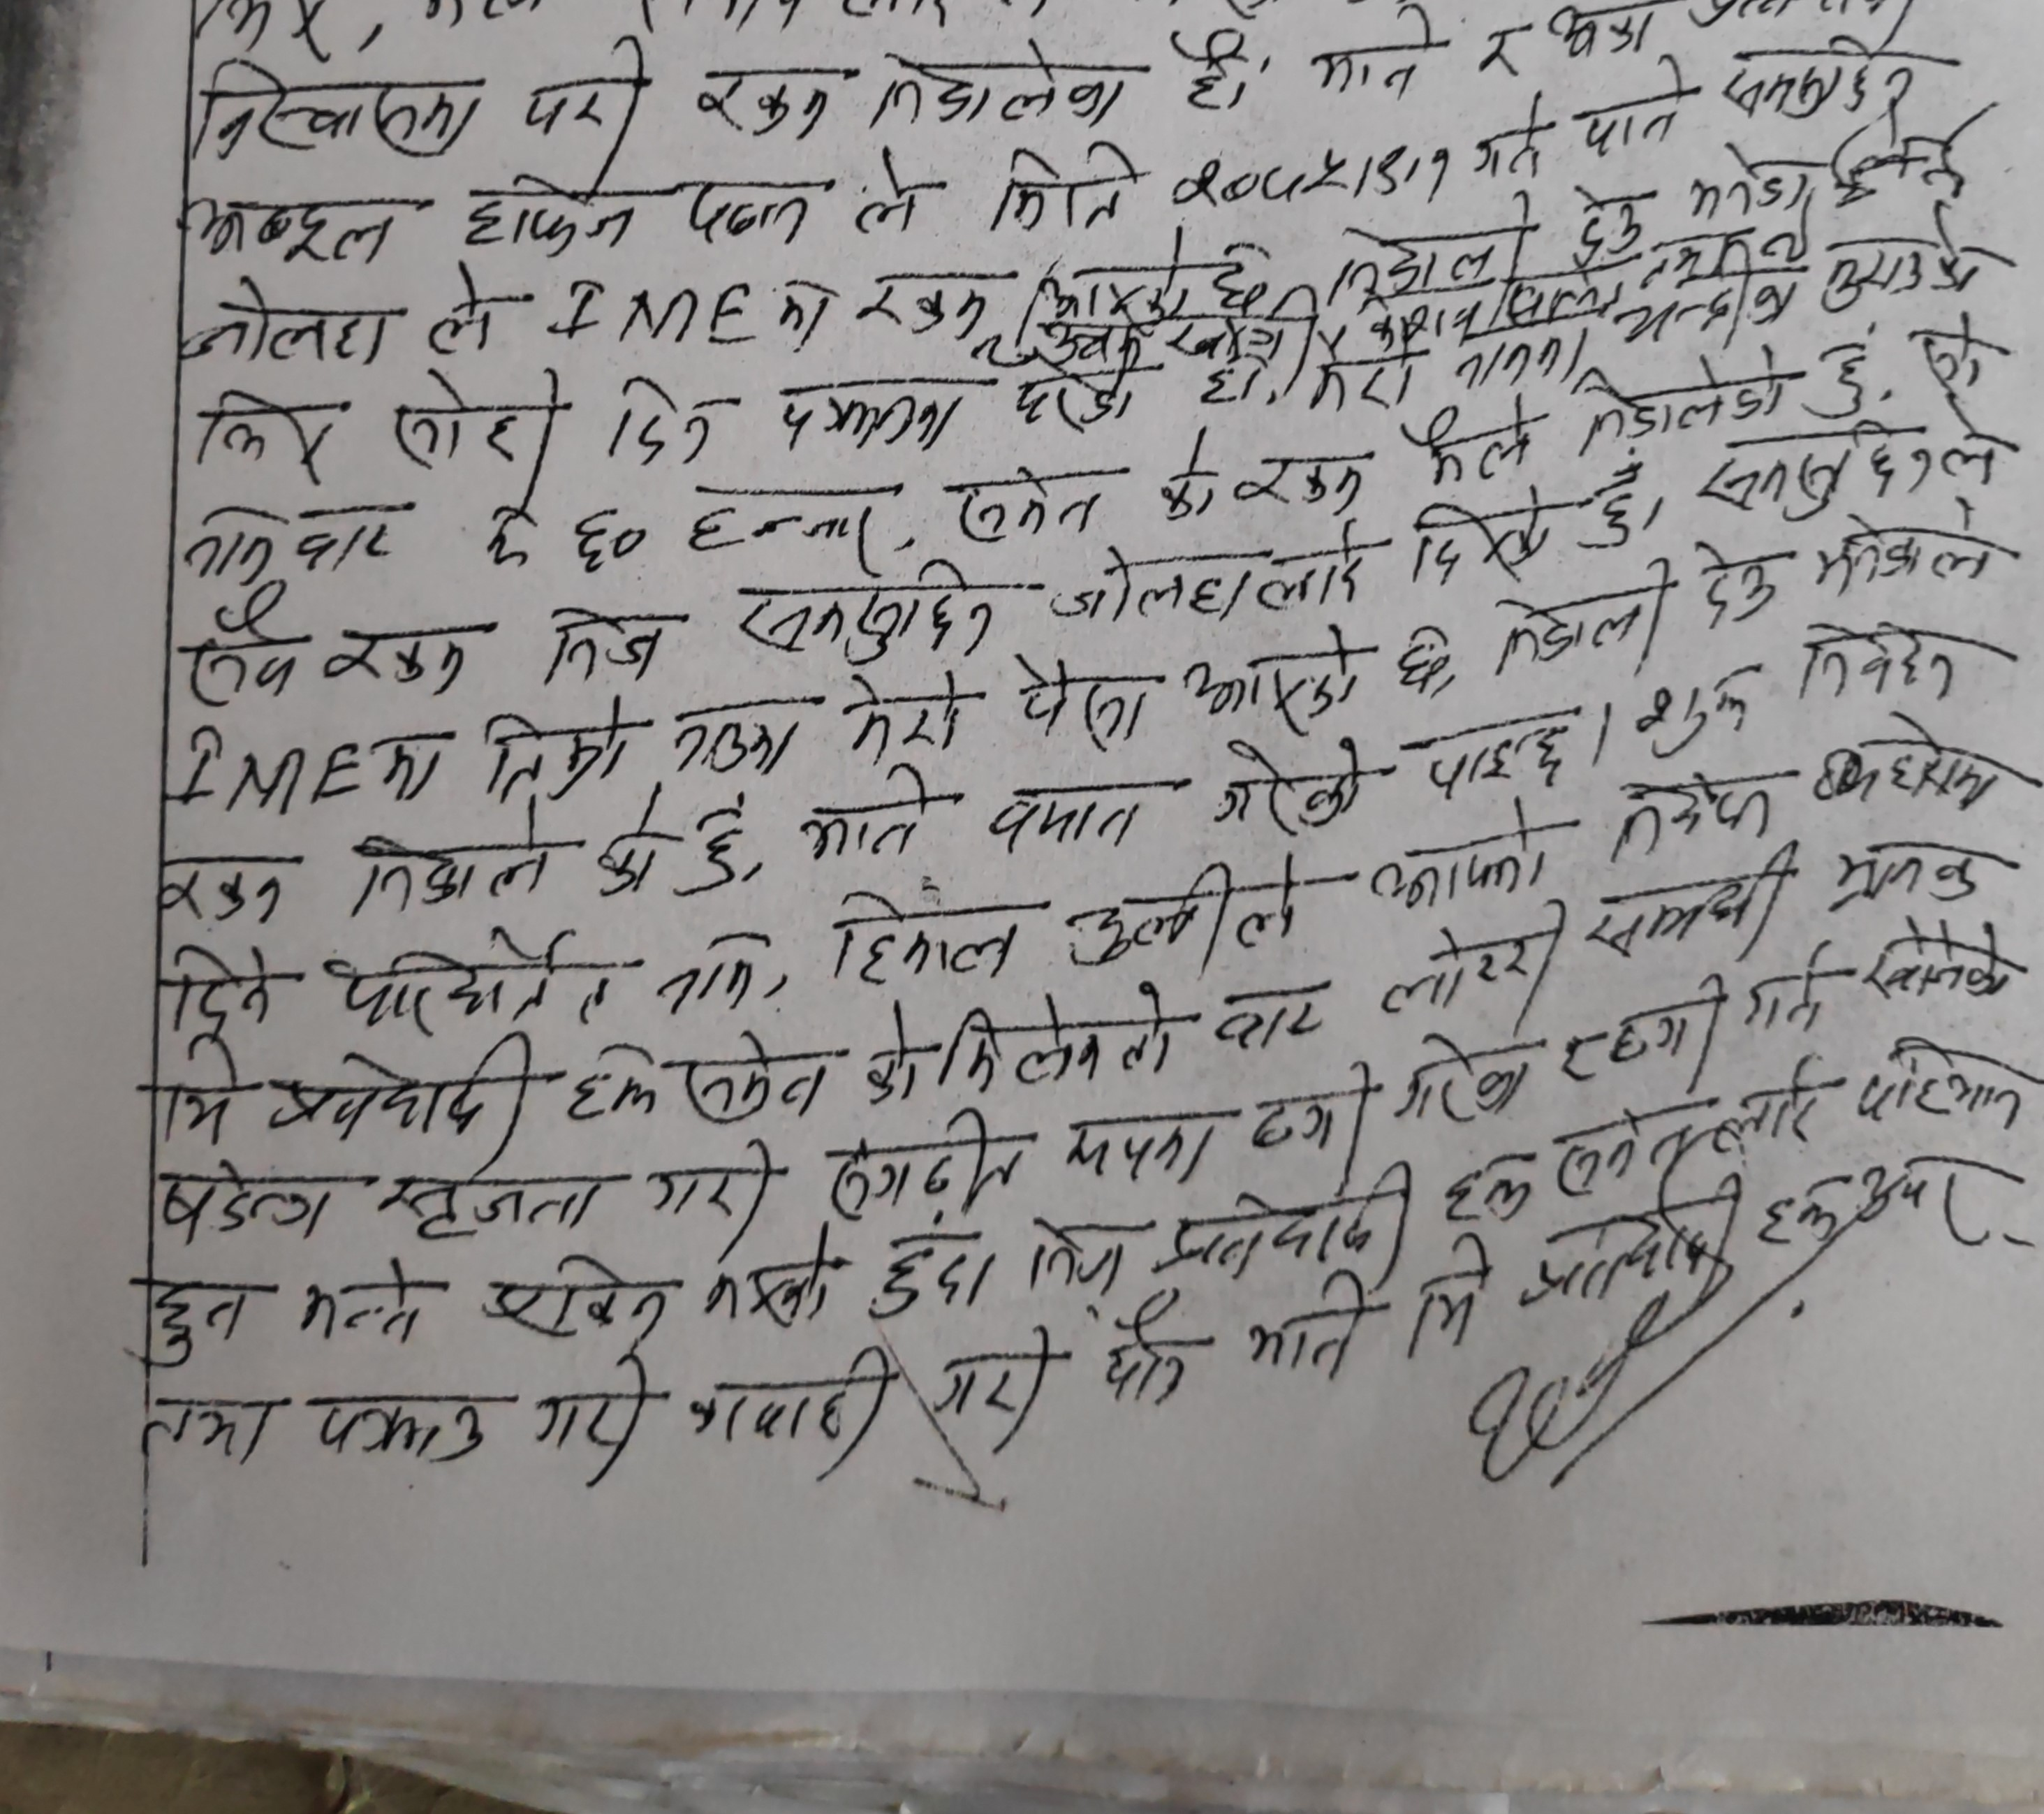text: (187, 53, 483, 170), (733, 557, 1006, 665), (266, 1030, 548, 1135), (322, 926, 623, 1024), (1549, 1087, 1820, 1196), (1155, 1168, 1426, 1275), (1757, 1145, 1995, 1264), (1517, 1180, 1753, 1299), (684, 1336, 894, 1469), (1059, 856, 1307, 967), (1171, 128, 1456, 217), (938, 988, 1176, 1094), (572, 1030, 829, 1126), (873, 42, 1144, 133), (819, 1105, 1036, 1210), (1713, 26, 1928, 131), (822, 877, 1031, 984), (378, 355, 577, 466), (346, 805, 556, 909), (1486, 571, 1673, 686), (187, 275, 401, 375), (1179, 625, 1365, 737), (1808, 716, 2016, 816), (376, 1157, 604, 1248), (1578, 863, 1788, 961), (1788, 606, 1974, 713), (1848, 1037, 2033, 1143), (1813, 217, 2004, 319), (1367, 805, 1547, 912), (677, 476, 903, 560), (1375, 919, 1556, 1024), (481, 1248, 670, 1348), (1206, 732, 1370, 846), (1316, 214, 1538, 298), (180, 506, 427, 581), (187, 182, 402, 268), (1050, 1093, 1230, 1194), (1400, 702, 1577, 805), (159, 1149, 336, 1250), (290, 1389, 499, 1474), (478, 692, 644, 798), (931, 1324, 1071, 1450), (1052, 541, 1256, 627), (1598, 762, 1783, 856), (1804, 515, 2005, 601), (523, 33, 654, 163), (1858, 909, 2019, 1014), (1239, 1275, 1382, 1392), (1004, 646, 1162, 753), (763, 373, 966, 455), (1577, 366, 1802, 439), (1694, 425, 1864, 522), (1388, 1024, 1538, 1129), (1816, 826, 2000, 912), (990, 135, 1146, 235), (528, 1350, 647, 1480), (689, 56, 840, 158), (458, 177, 649, 256), (1407, 490, 1563, 587), (940, 455, 1106, 545), (1606, 967, 1729, 1087), (198, 389, 357, 482), (315, 620, 483, 707), (296, 1245, 437, 1348), (185, 592, 308, 711), (131, 1380, 282, 1476), (1248, 1052, 1381, 1161), (642, 1133, 784, 1234), (703, 1229, 843, 1331), (658, 690, 808, 783), (1001, 341, 1137, 443), (843, 662, 975, 767), (875, 1219, 1006, 1324), (532, 597, 688, 685), (1626, 263, 1802, 340), (794, 770, 931, 867), (602, 364, 724, 471), (1403, 1231, 1496, 1371), (1311, 7, 1445, 103), (1573, 56, 1697, 159), (982, 781, 1160, 853), (1407, 399, 1538, 496), (677, 166, 815, 256), (1255, 517, 1375, 616), (1680, 138, 1816, 224), (161, 842, 296, 928), (1017, 1203, 1136, 1299), (166, 939, 280, 1037), (1206, 968, 1335, 1054), (140, 1271, 257, 1366), (849, 268, 1006, 338), (1732, 944, 1843, 1044), (1687, 531, 1781, 646), (1095, 1310, 1200, 1410), (1638, 678, 1769, 756), (1225, 443, 1375, 511), (159, 1033, 248, 1145), (1445, 326, 1598, 389), (849, 133, 929, 252), (1300, 345, 1421, 420), (422, 264, 513, 364), (1435, 1149, 1547, 1229), (654, 928, 759, 1014), (1169, 26, 1262, 123), (1144, 420, 1227, 529), (1556, 170, 1648, 264), (854, 995, 927, 1114), (1466, 98, 1557, 182), (1906, 313, 1998, 396), (588, 798, 658, 902), (1858, 418, 1941, 506), (369, 721, 446, 805), (1386, 616, 1456, 707), (684, 798, 744, 898), (1584, 459, 1648, 550), (469, 496, 542, 574), (569, 504, 644, 576), (1816, 338, 1879, 420), (1941, 403, 2000, 487), (1472, 18, 1536, 84), (1192, 354, 1272, 401), (1556, 1023, 1594, 1098)
